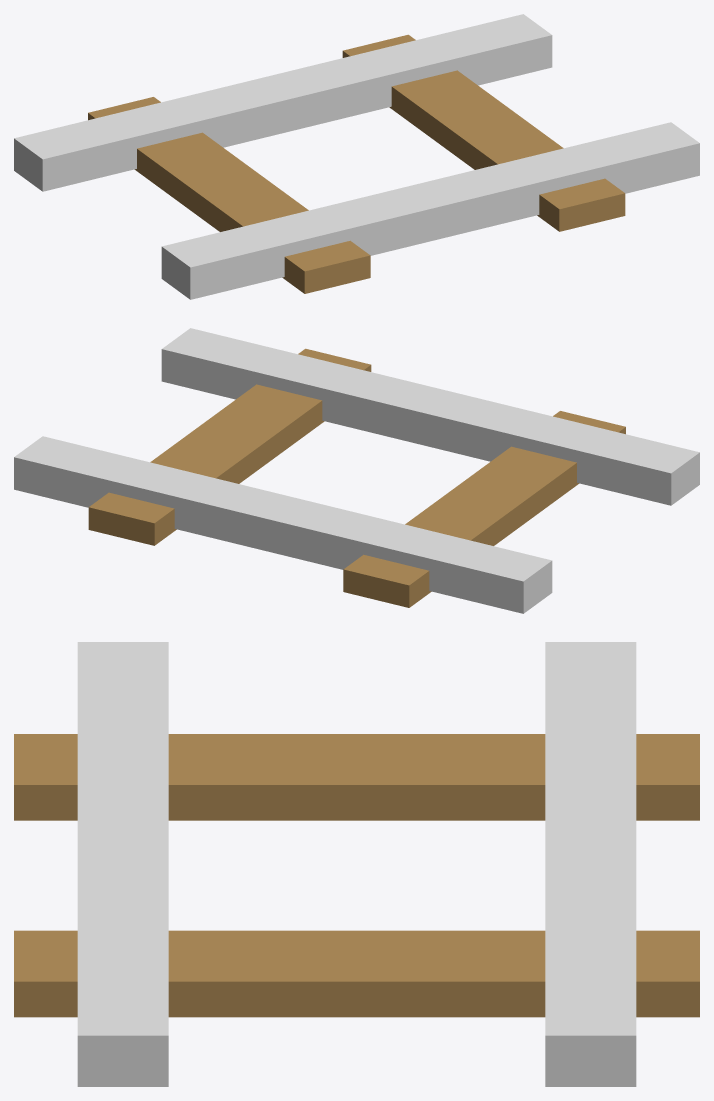
Rendered from g_rail.glb.
The picture shows the model from 3 angles, top to bottom: view 1: azimuth 30°, elevation 25°; view 2: azimuth 150°, elevation 25°; view 3: azimuth 270°, elevation 25°; orthographic projection. The views are drawn at different scales.
Visible parts, largest first — view 1: Rail_Straight; view 2: Rail_Straight; view 3: Rail_Straight.
Part boxes in pixels (x1=…): Rail_Straight: x1=14, y1=14, x2=699, y2=299; Rail_Straight: x1=14, y1=328, x2=699, y2=613; Rail_Straight: x1=14, y1=642, x2=699, y2=1086.
Bounding box in the file's own units: 2 × 0.1305 × 1.47.
Materials: 2 (1 with a texture image).
